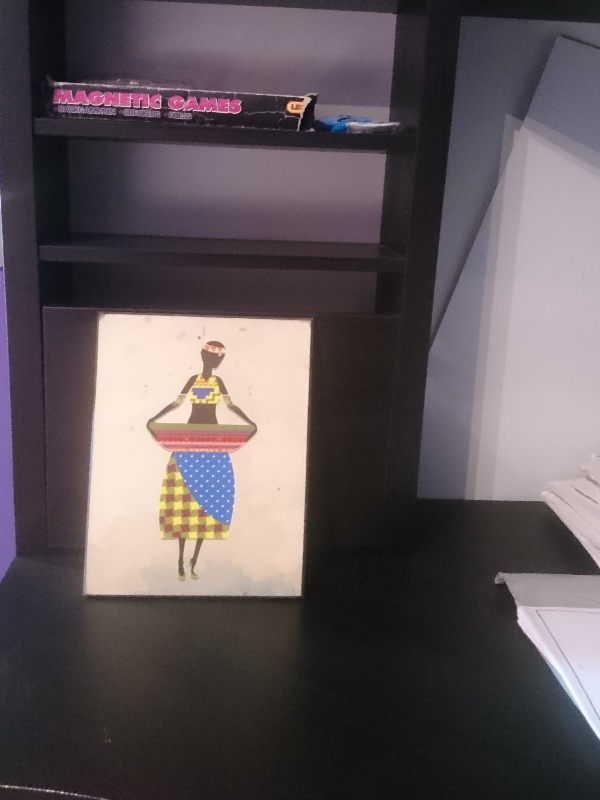my image: (84, 318, 306, 594)
